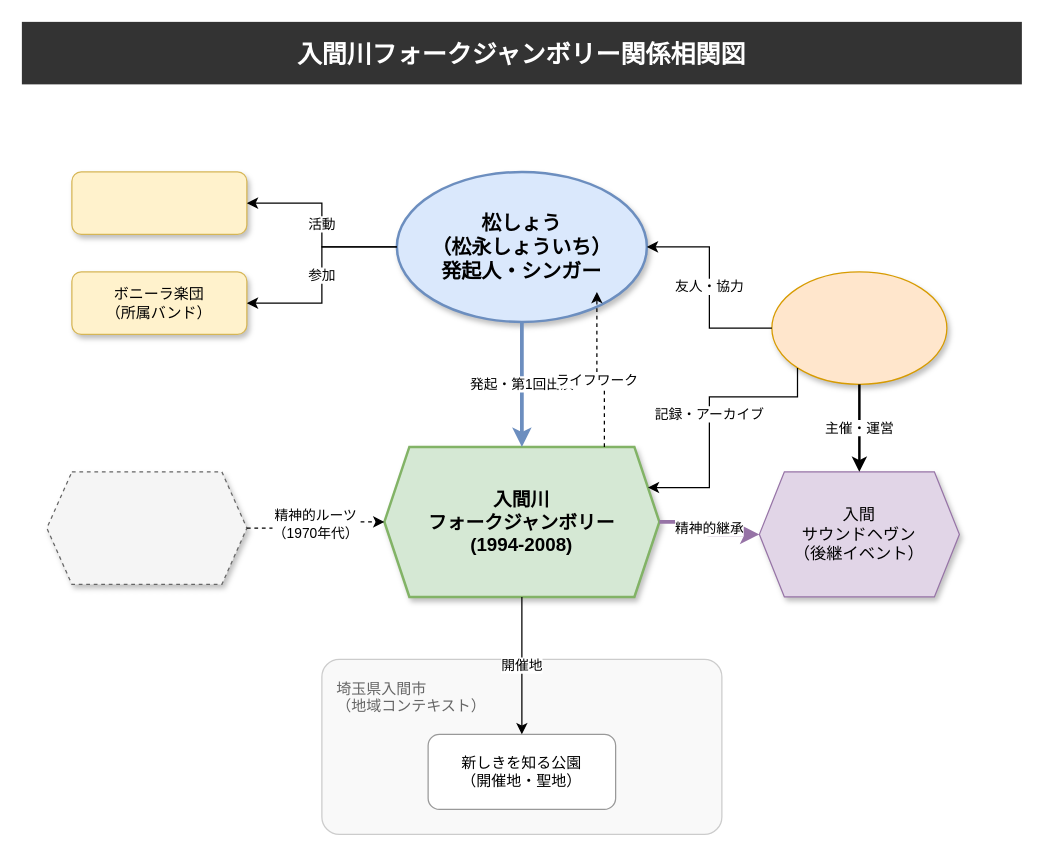
Image size: 1043x856. Some labels were removed from this diagram. The shapes that lost their labels are listed below. From the top down, each one's centre as x and y in pixels, then its label:
At (x=160, y=204): "Jomon Heads （プロジェクト）".
At (x=860, y=329): "ゆっこらんど （友人・記録者）".
At (x=147, y=529): "全日本 フォークジャンボリー （中津川）".
